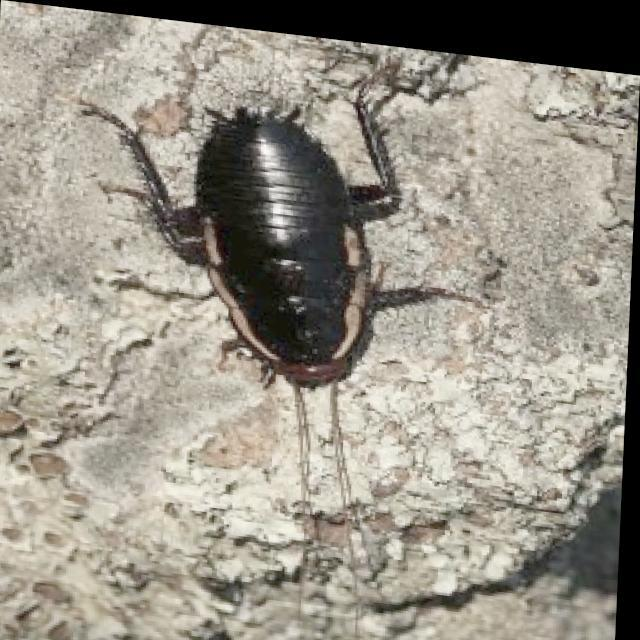cockroach: (91, 76, 461, 406)
